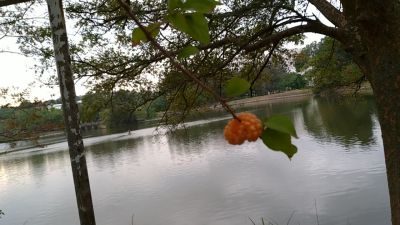eggs: (222, 112, 264, 147)
